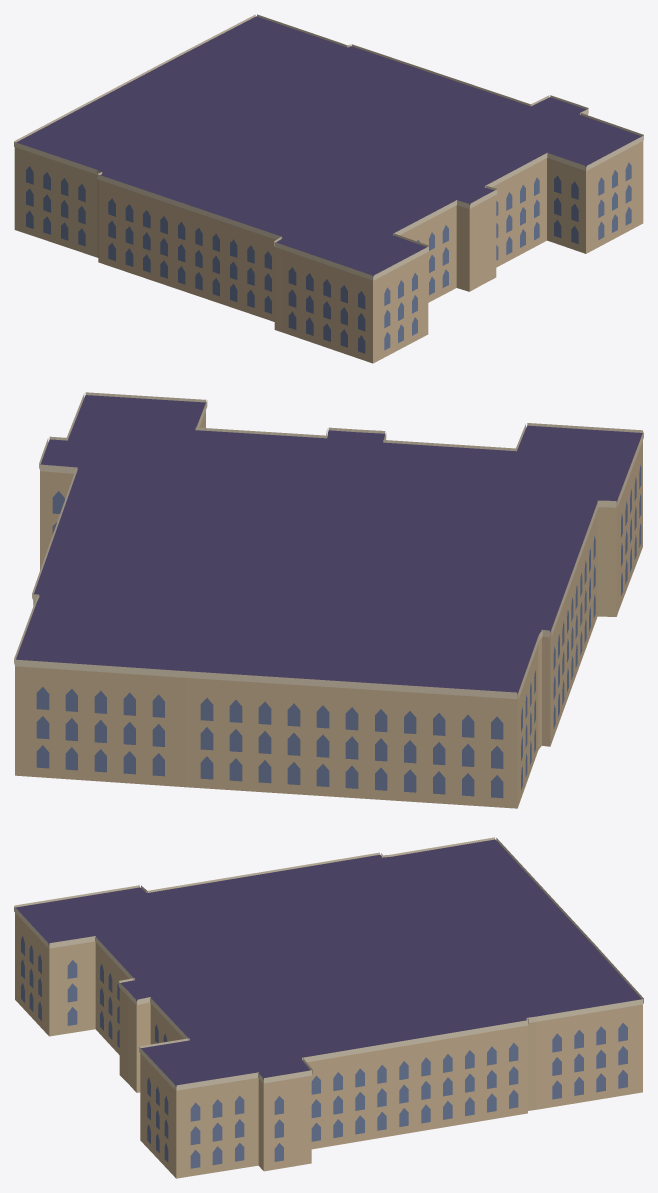
Rendered from core-physics-building-day.glb.
3 views of the same model, one above another, from view 1: azimuth 30°, elevation 25°; view 2: azimuth 150°, elevation 25°; view 3: azimuth 270°, elevation 25° (orthographic). The views are drawn at different scales.
Visible parts, largest first — view 1: campus/core-physics-building-day-0; view 2: campus/core-physics-building-day-0; view 3: campus/core-physics-building-day-0.
Boxes of the visible parts, x1,y1,x2,y2 form: campus/core-physics-building-day-0: (14, 14, 643, 363); campus/core-physics-building-day-0: (14, 392, 643, 808); campus/core-physics-building-day-0: (14, 837, 643, 1178).
Size of the model in its own units: 74.67 by 13.15 by 80.14.
